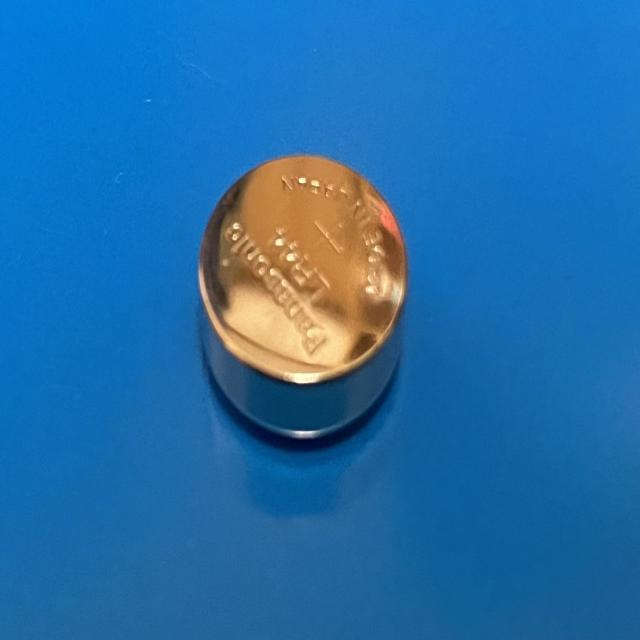COIN: (195, 150, 410, 444)
